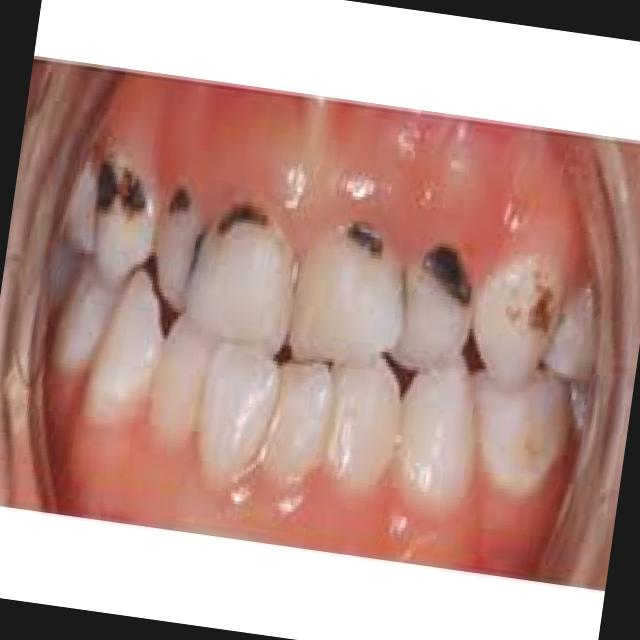caries: (407, 228, 488, 322), (81, 144, 159, 238), (338, 210, 396, 268), (165, 174, 199, 223)
